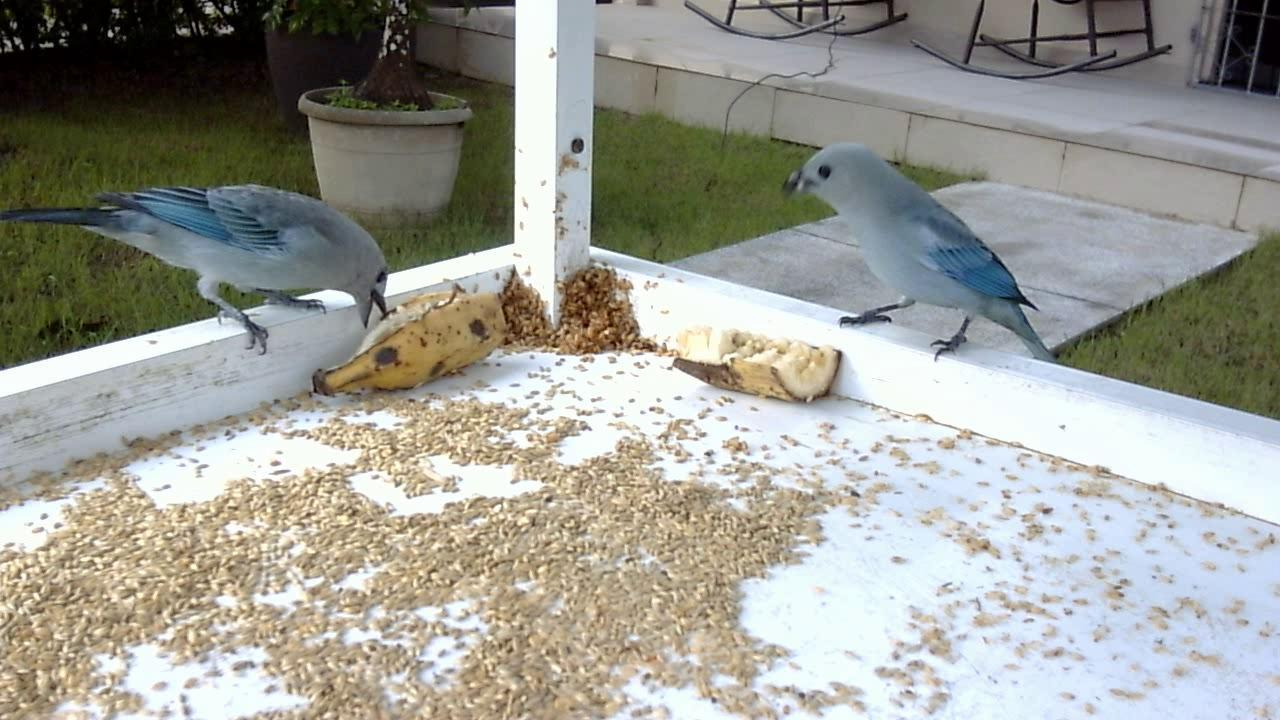sanhaco_da_amazonia: (777, 132, 1068, 376), (23, 176, 389, 362)
